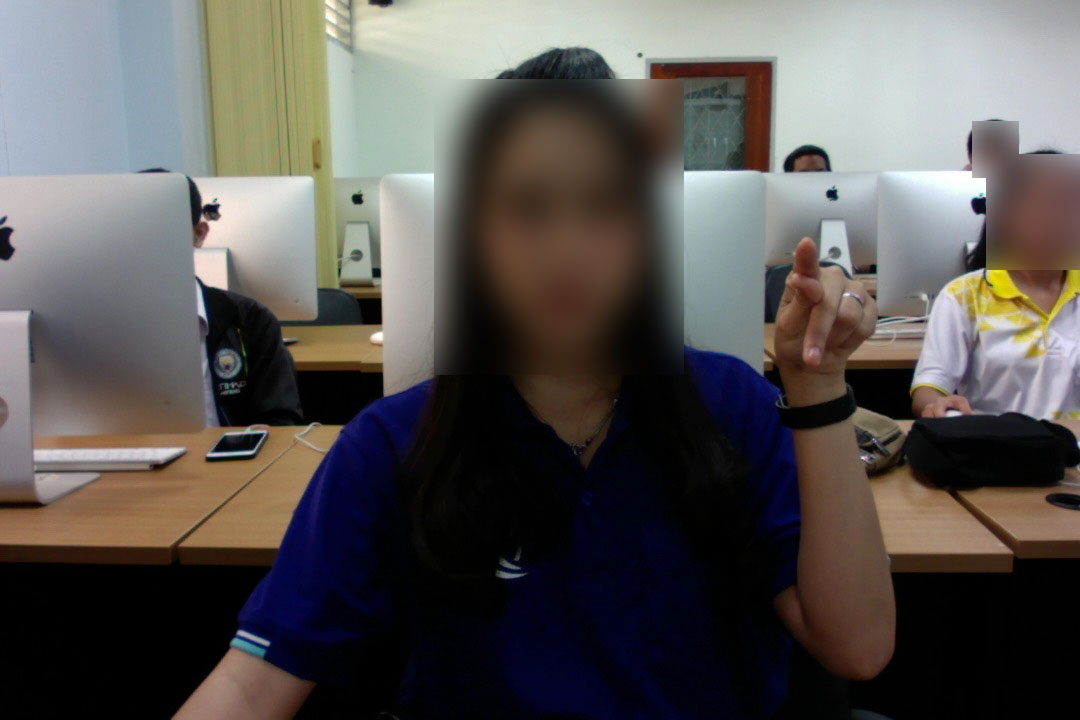por: (765, 228, 884, 388)
